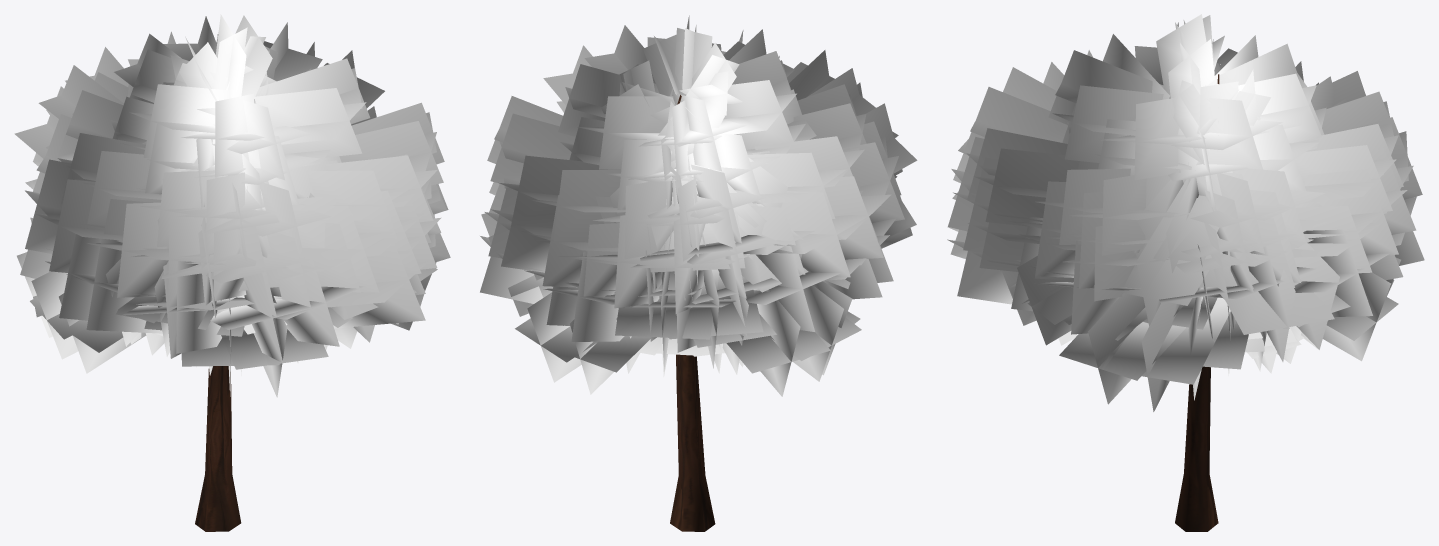
Rendered from newTree.fbx.
3 renders of one model, left to right at view 1: azimuth 30°, elevation 25°; view 2: azimuth 150°, elevation 25°; view 3: azimuth 270°, elevation 25°, orthographic. The views are drawn at different scales.
Visible parts, largest first — view 1: Cylinder; view 2: Cylinder; view 3: Cylinder.
Boxes of the visible parts, x1,y1,x2,y2 form: Cylinder: (14, 14, 450, 531); Cylinder: (480, 15, 917, 531); Cylinder: (947, 14, 1424, 531).
Bounding box in the file's own units: 1242 × 1606 × 1361.
